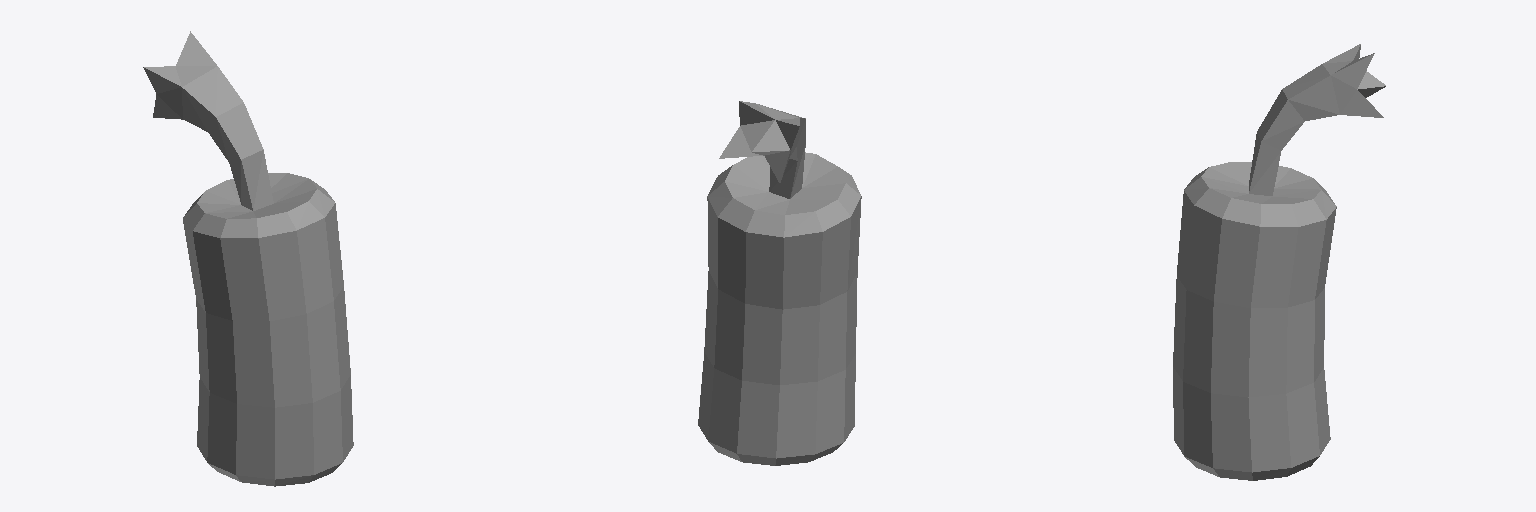
File: Dynamite.obj
3 renders of one model, left to right at view 1: azimuth 30°, elevation 25°; view 2: azimuth 150°, elevation 25°; view 3: azimuth 270°, elevation 25°, orthographic.
Parts seen in each view (by area): view 1: Inst3D_RefRep.281; view 2: Inst3D_RefRep.281; view 3: Inst3D_RefRep.281.
Part boxes in pixels (bbox=[...]): Inst3D_RefRep.281: bbox=[143, 31, 353, 486]; Inst3D_RefRep.281: bbox=[698, 101, 861, 465]; Inst3D_RefRep.281: bbox=[1173, 44, 1385, 480].
Bounding box in the file's own units: 1.87 × 4.73 × 2.36.